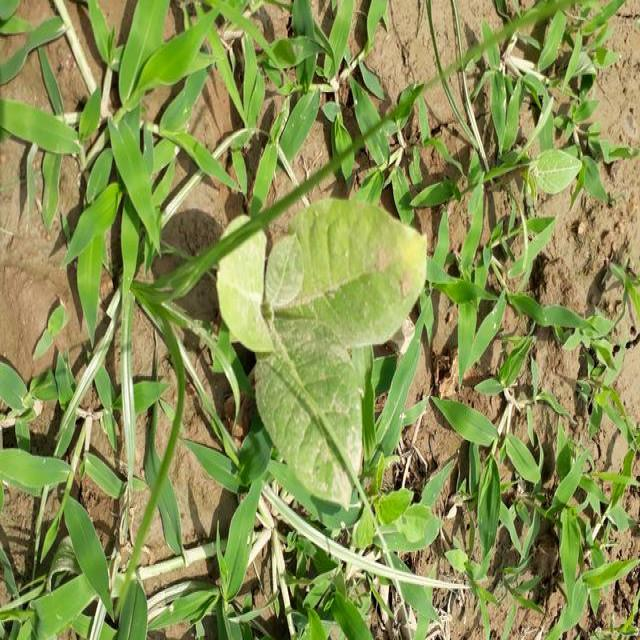crop: (218, 188, 434, 514)
